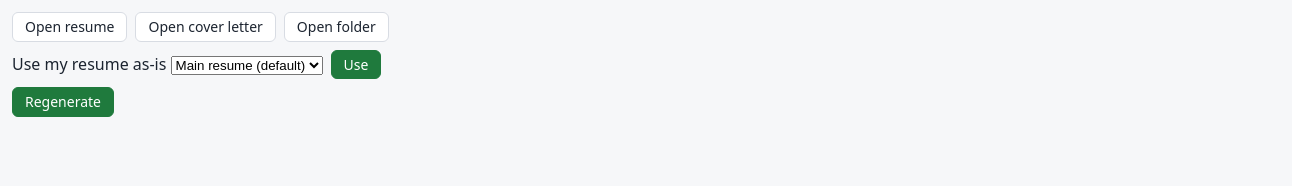
Test: DocsActions feedback and source › says which resume is now in use after Use as-is
Click the button "Use" at [356, 64], box [331,50,381,79]
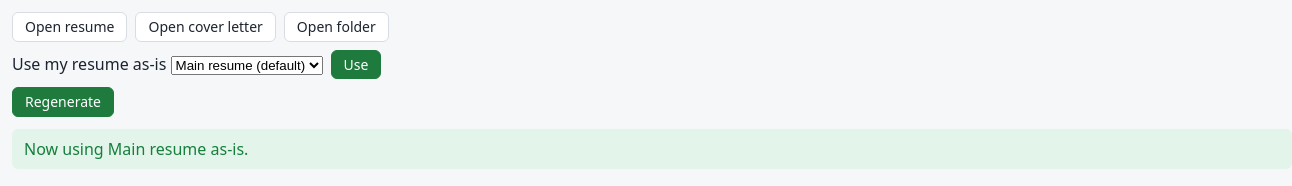
Now the text "Now using Main resume as-is." is shown, box [12,129,1291,169]
